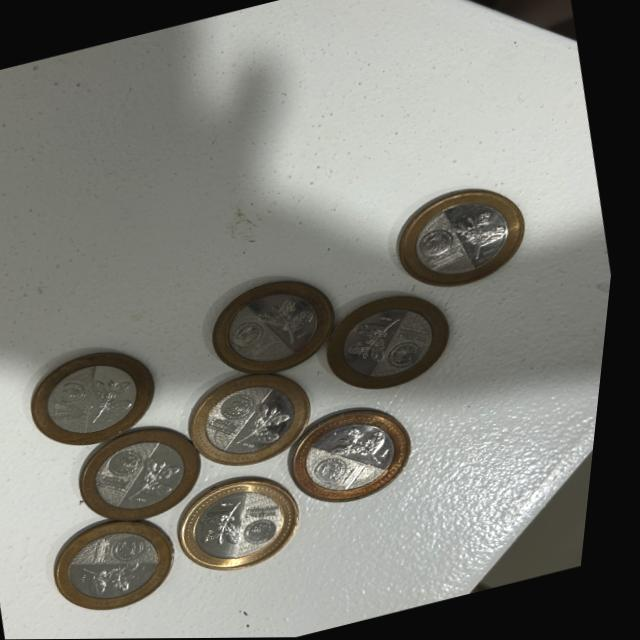20_New_Back: (195, 497, 267, 557), (345, 312, 419, 370), (332, 419, 401, 474), (82, 554, 159, 603), (127, 453, 195, 505), (86, 372, 146, 428), (261, 292, 322, 347), (239, 396, 303, 447), (457, 206, 512, 260)
